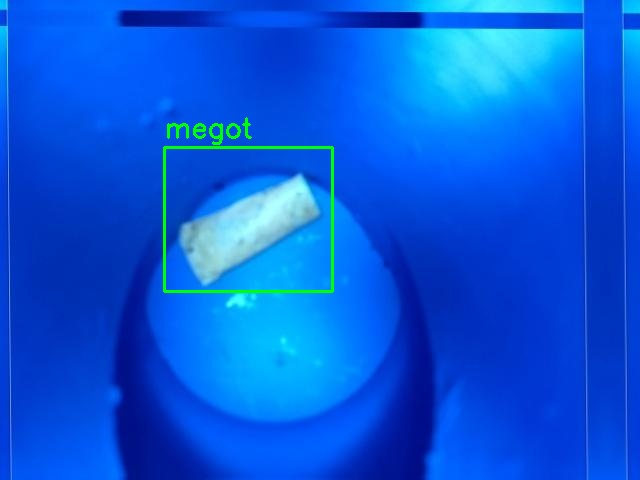megot: (164, 147, 332, 291)
